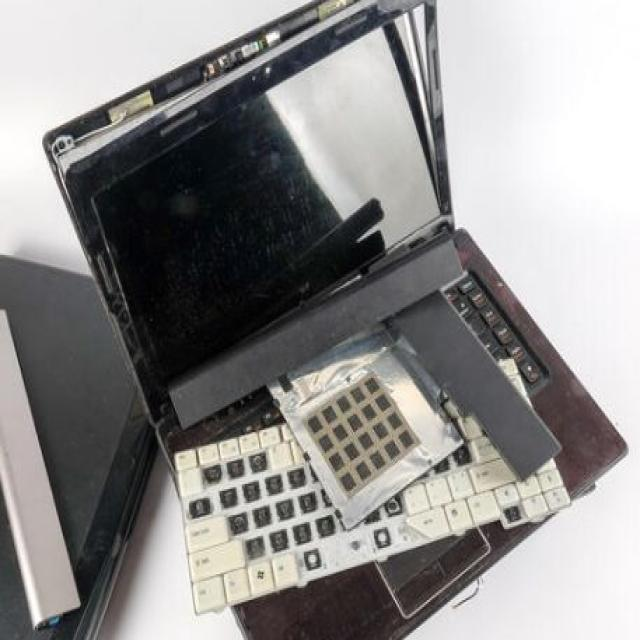electronic: (39, 0, 628, 638)
